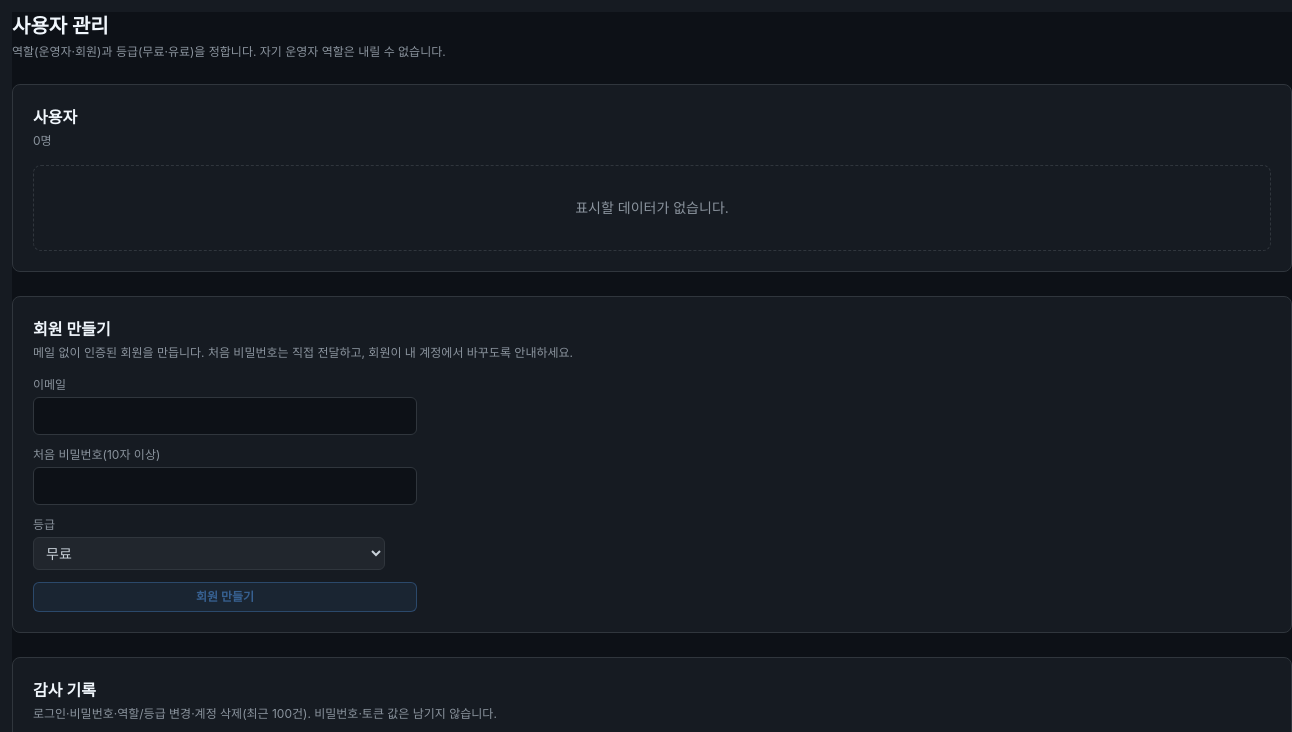
Test case: QA-105 사용자 관리 — 회원 만들기 › 실패하면 처음 비밀번호 입력을 남긴다
The width and height of the screenshot is (1292, 732).
Type "m@test.local" into the field labelled "이메일". click: (225, 416)
box: x1=33 y1=397 x2=417 y2=435
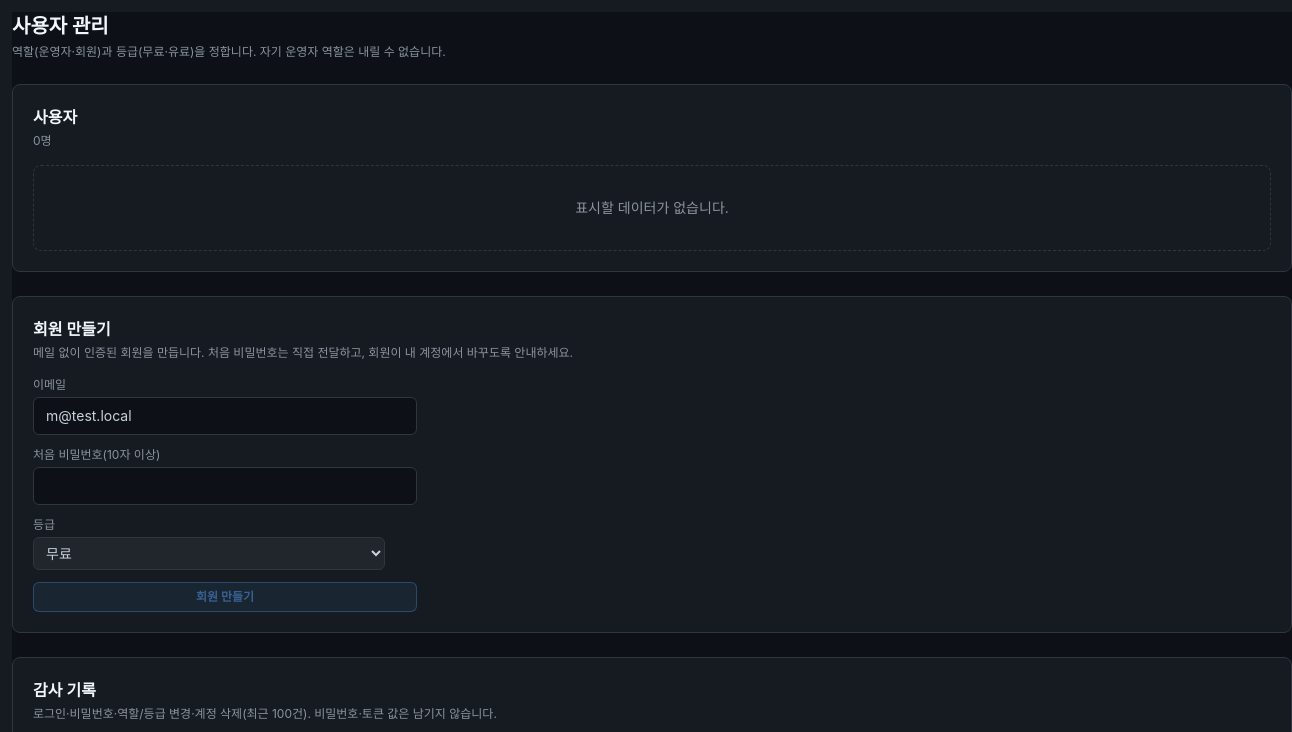
Type "Abcdefgh1234!" into the password field labelled "처음 비밀번호(10자 이상)". click: (225, 486)
box: x1=33 y1=467 x2=417 y2=505
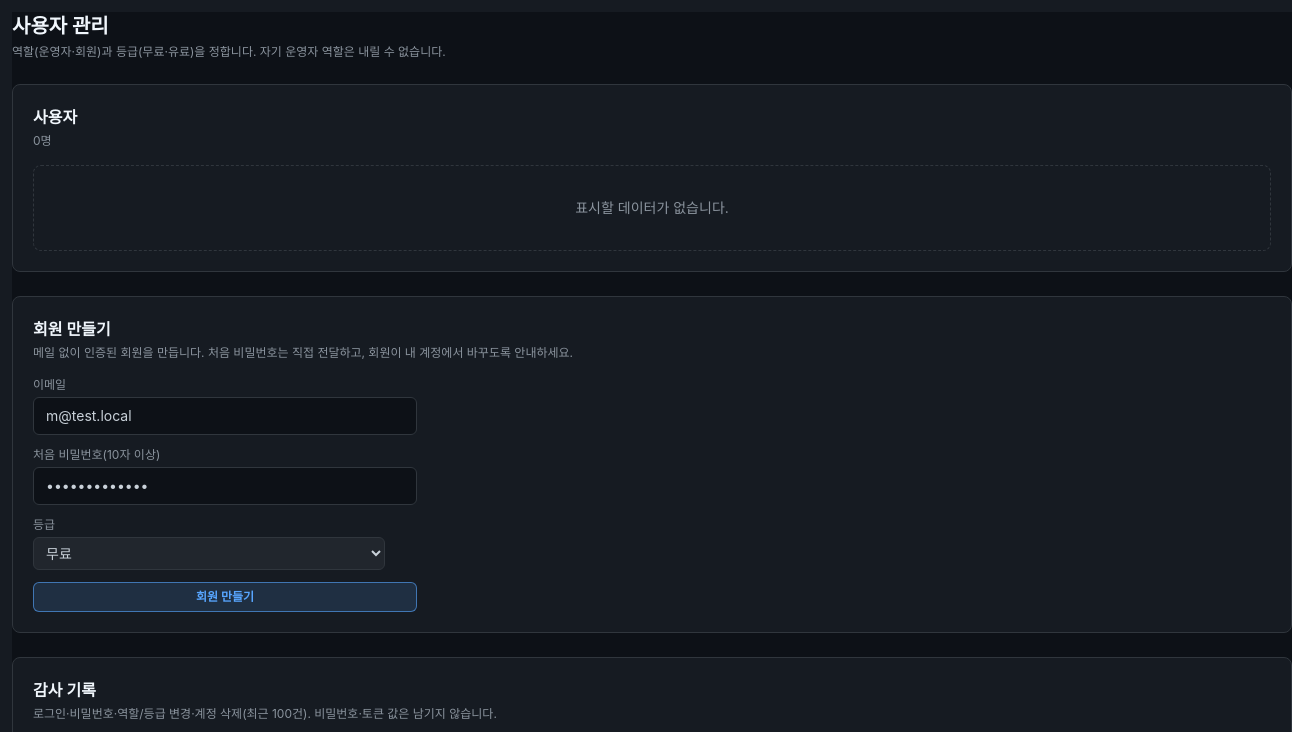
Click the button "회원 만들기". click: (225, 597)
box: x1=33 y1=582 x2=417 y2=612
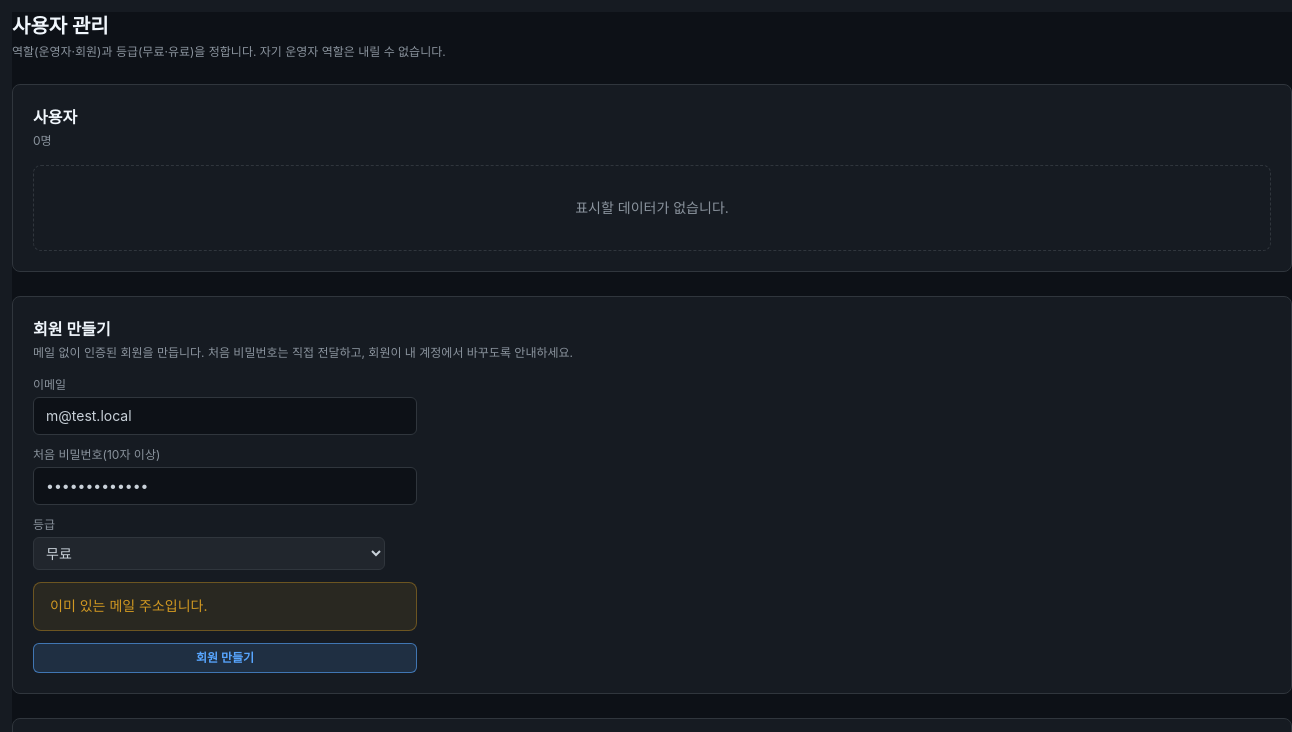
Expected: the text "이미 있는 메일 주소입니다." is shown, x1=33 y1=582 x2=417 y2=631
